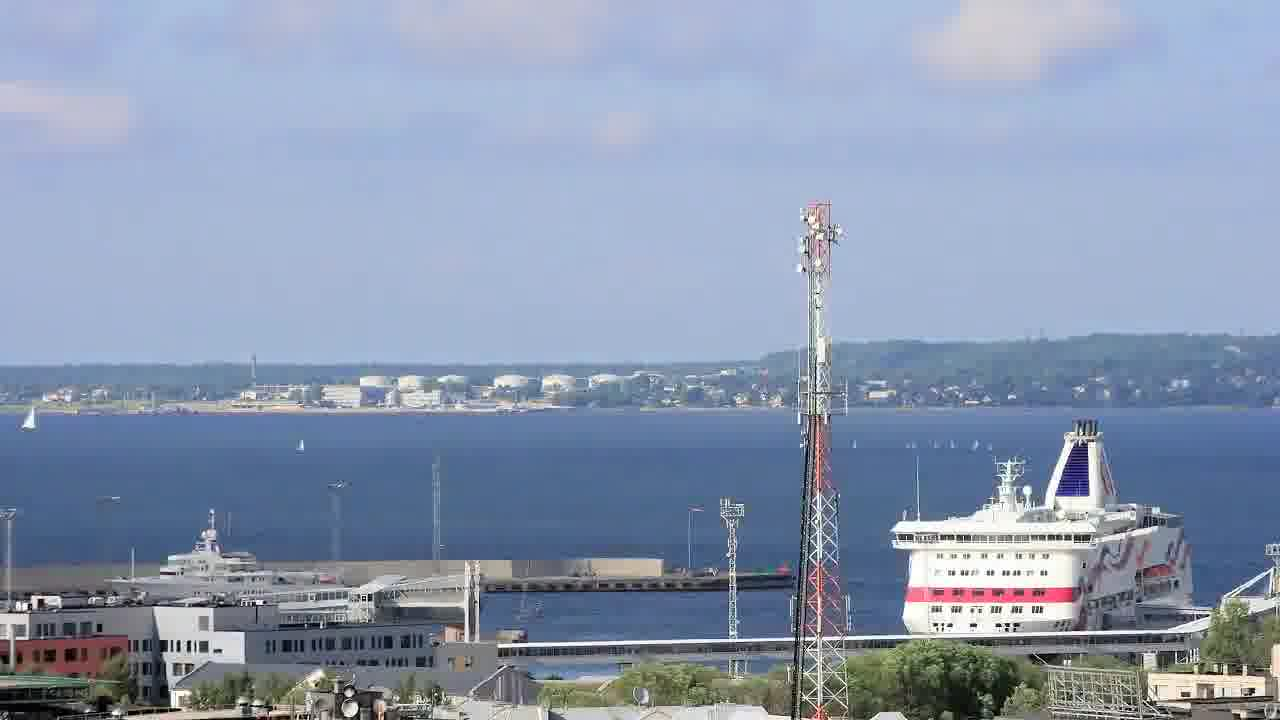type-2: (10, 386, 44, 445)
type-3: (868, 415, 1225, 638), (84, 537, 359, 610)
